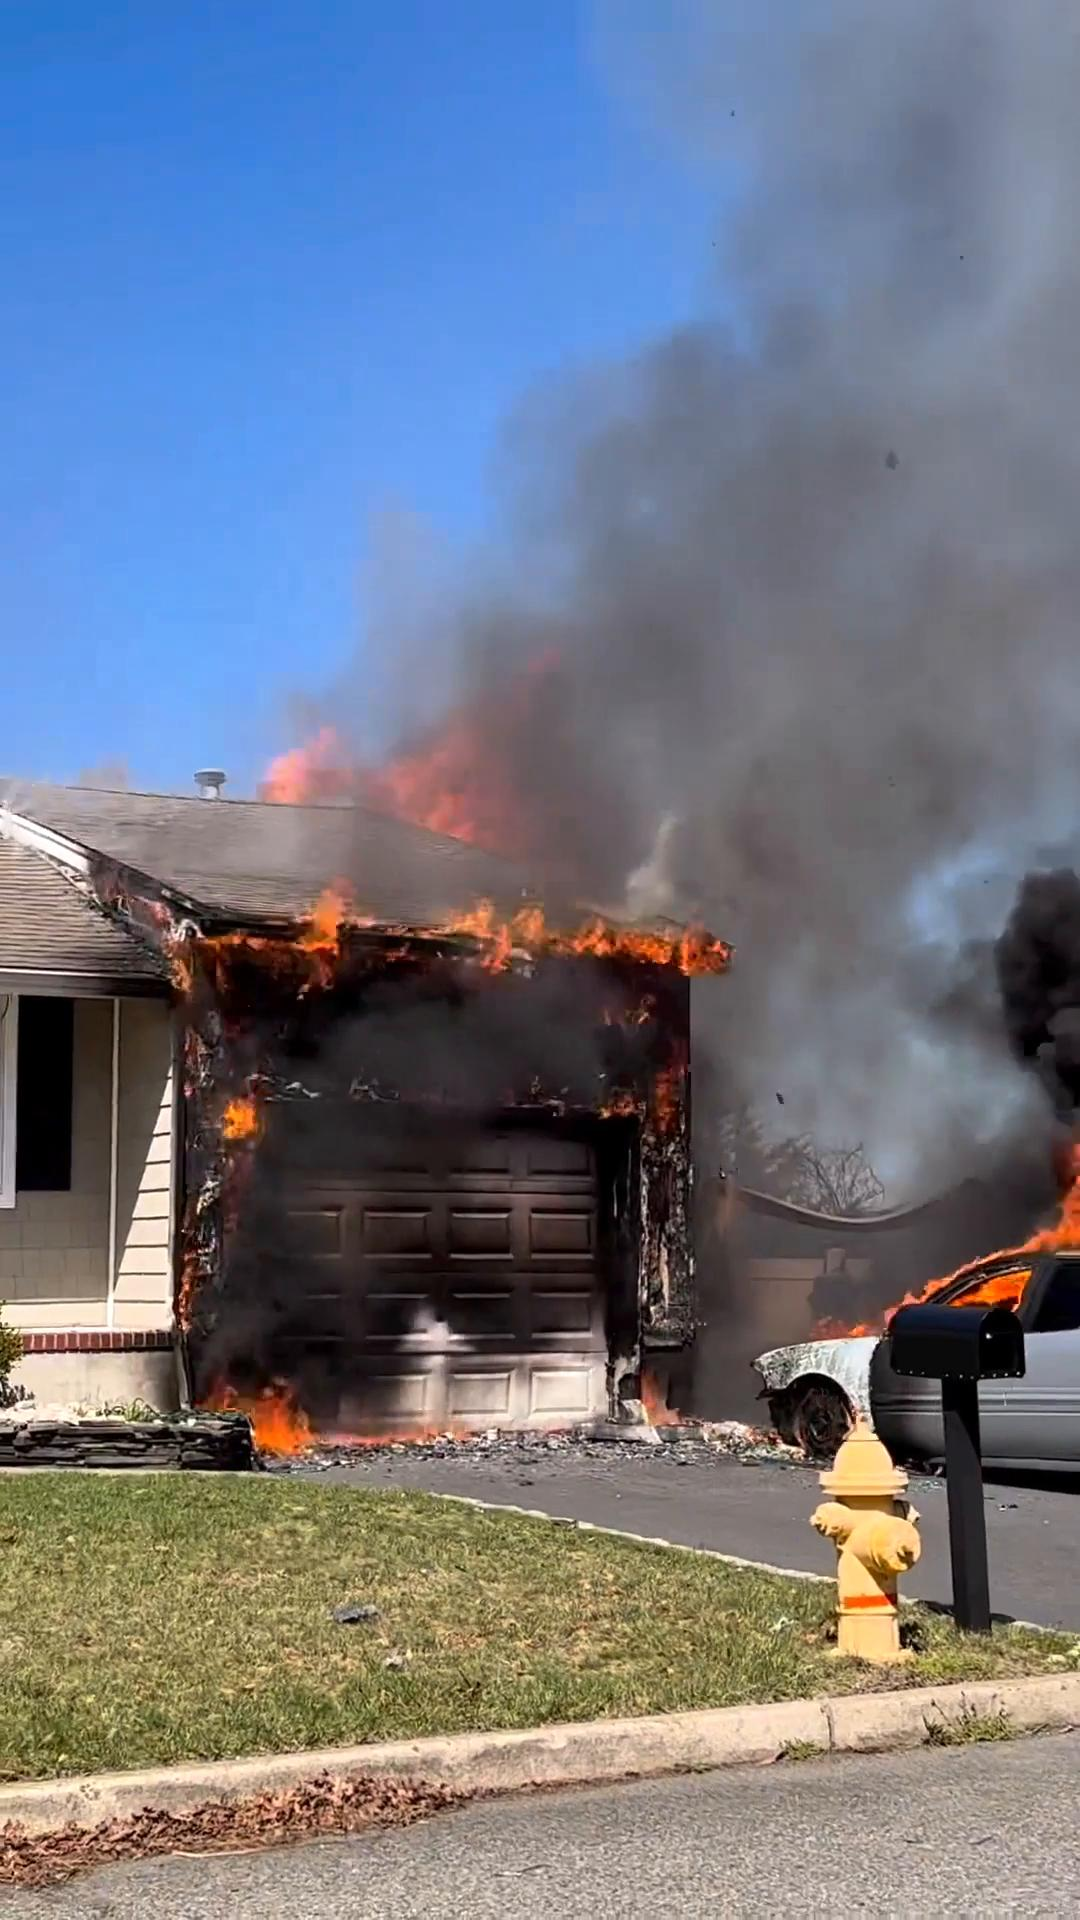fire: (287, 870, 693, 977)
smoke: (547, 177, 1043, 860), (717, 883, 1003, 1180)
